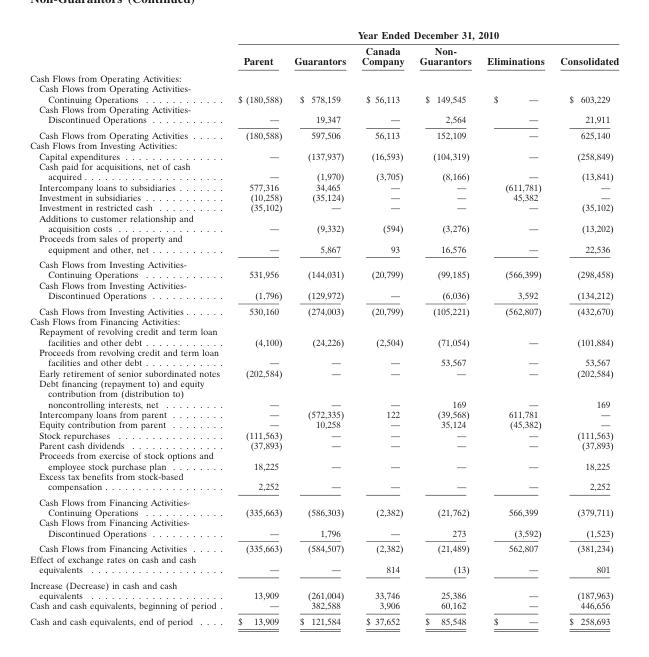table: (29, 28, 618, 626)
table column: (29, 28, 229, 626), (478, 28, 551, 626), (411, 28, 478, 626), (551, 28, 618, 626), (287, 28, 353, 626), (229, 28, 287, 626), (353, 28, 411, 626)
table column header: (29, 28, 618, 69)
table projected row header: (29, 69, 618, 83), (29, 139, 618, 150), (29, 315, 618, 325)
table row: (29, 377, 618, 408), (29, 42, 618, 69), (29, 232, 618, 256), (29, 493, 618, 517), (29, 103, 618, 126), (29, 256, 618, 279), (29, 279, 618, 302), (29, 470, 618, 493), (29, 517, 618, 540), (29, 553, 618, 576), (29, 576, 618, 599), (29, 160, 618, 181), (29, 325, 618, 346), (29, 346, 618, 367), (29, 449, 618, 470), (29, 83, 618, 103), (29, 212, 618, 232), (29, 28, 618, 42), (29, 69, 618, 83), (29, 612, 618, 626), (29, 126, 618, 139), (29, 302, 618, 315), (29, 540, 618, 553), (29, 599, 618, 612), (29, 139, 618, 150), (29, 201, 618, 212), (29, 418, 618, 429), (29, 150, 618, 160), (29, 181, 618, 191), (29, 191, 618, 201), (29, 315, 618, 325), (29, 367, 618, 377), (29, 408, 618, 418), (29, 429, 618, 439), (29, 439, 618, 449)
table spanning cell: (229, 28, 618, 42)
